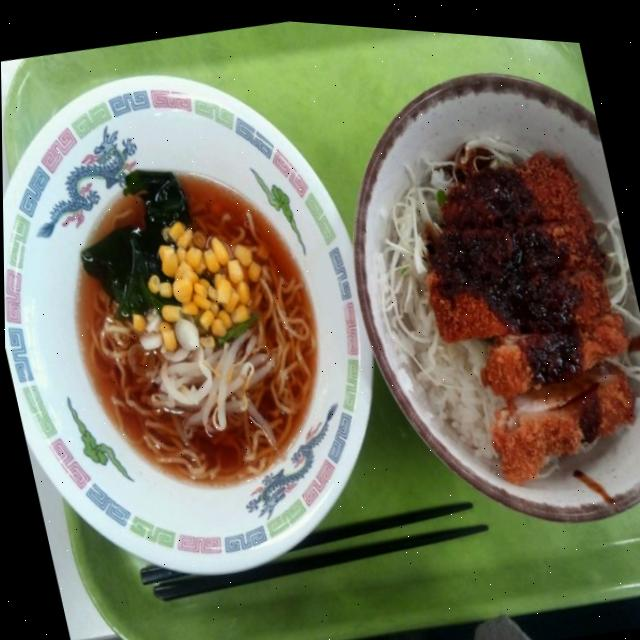面条主食: (0, 42, 403, 606)
